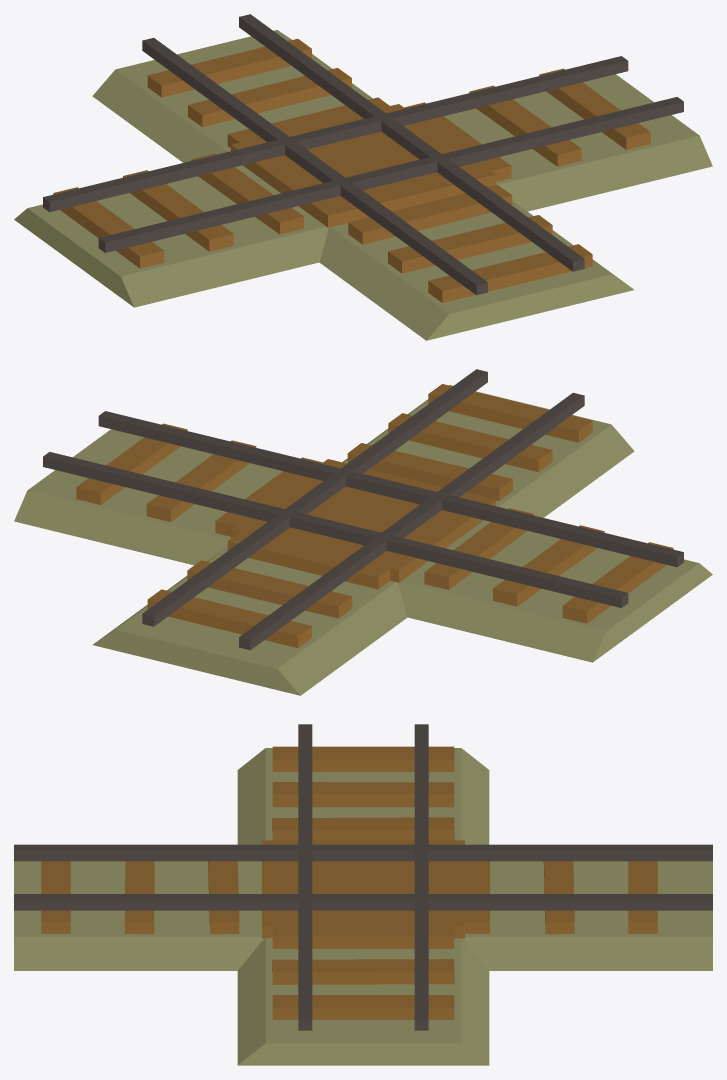
File: SM_Via_Cruce_v1_Madera_LOD1.fbx
3 views of the same model, one above another, from view 1: azimuth 30°, elevation 25°; view 2: azimuth 150°, elevation 25°; view 3: azimuth 270°, elevation 25° (orthographic). The views are drawn at different scales.
Parts seen in each view (by area): view 1: SM_via_trazado_v41_LOD1; view 2: SM_via_trazado_v41_LOD1; view 3: SM_via_trazado_v41_LOD1.
Boxes of the visible parts, x1=… form: SM_via_trazado_v41_LOD1: x1=14, y1=14, x2=712, y2=340; SM_via_trazado_v41_LOD1: x1=14, y1=369, x2=712, y2=695; SM_via_trazado_v41_LOD1: x1=14, y1=724, x2=712, y2=1065.
Size of the model in its own units: 10 by 0.722 by 10.
